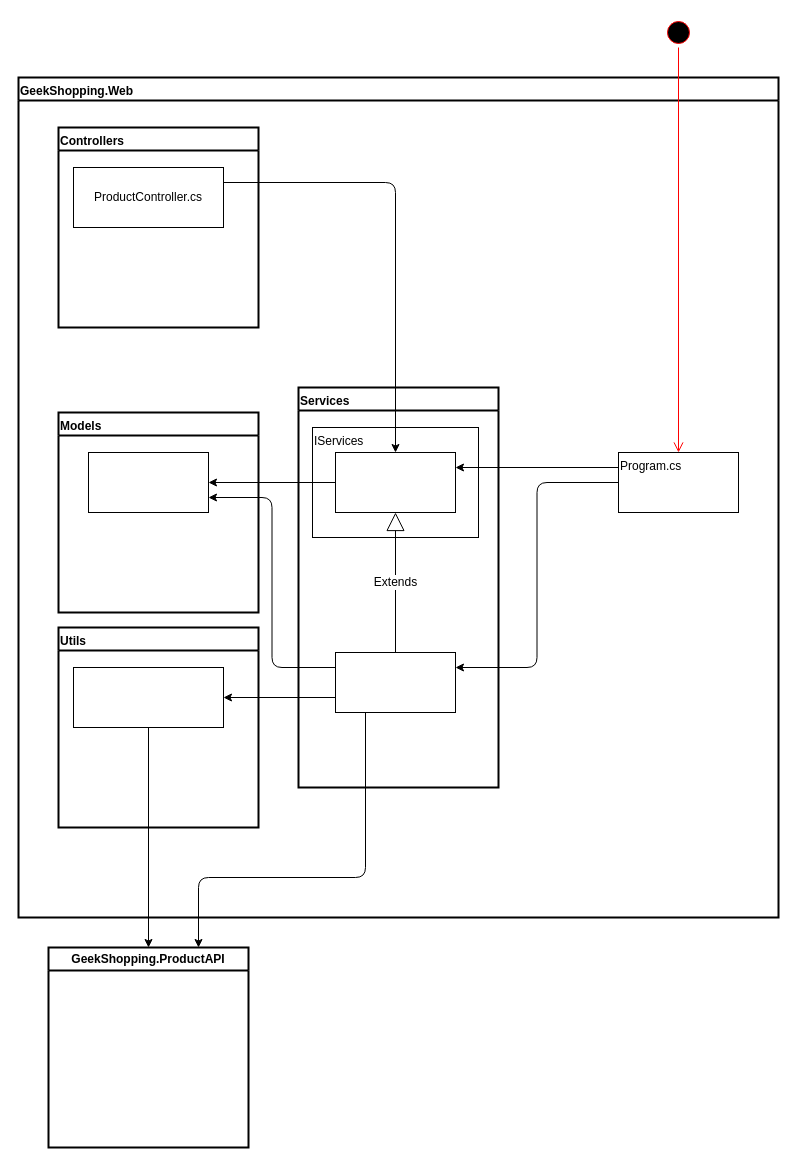
This 796x1166 diagram has some shape labels left out. The centre of each missing label's shape, as x and y in pixels:
"HttpClientExtensions.cs" belongs at point (148, 697).
"IProductService.cs" belongs at point (395, 482).
"ProductModel.cs" belongs at point (148, 482).
"ProductService.cs" belongs at point (395, 682).
